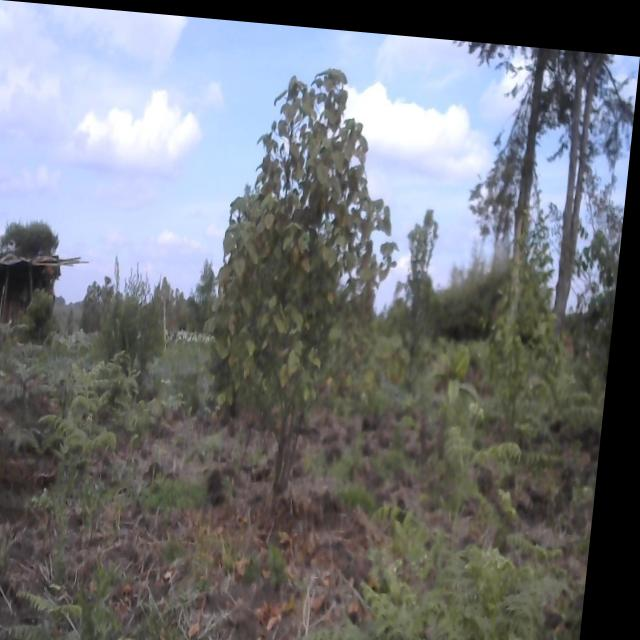other: (204, 37, 419, 532)
